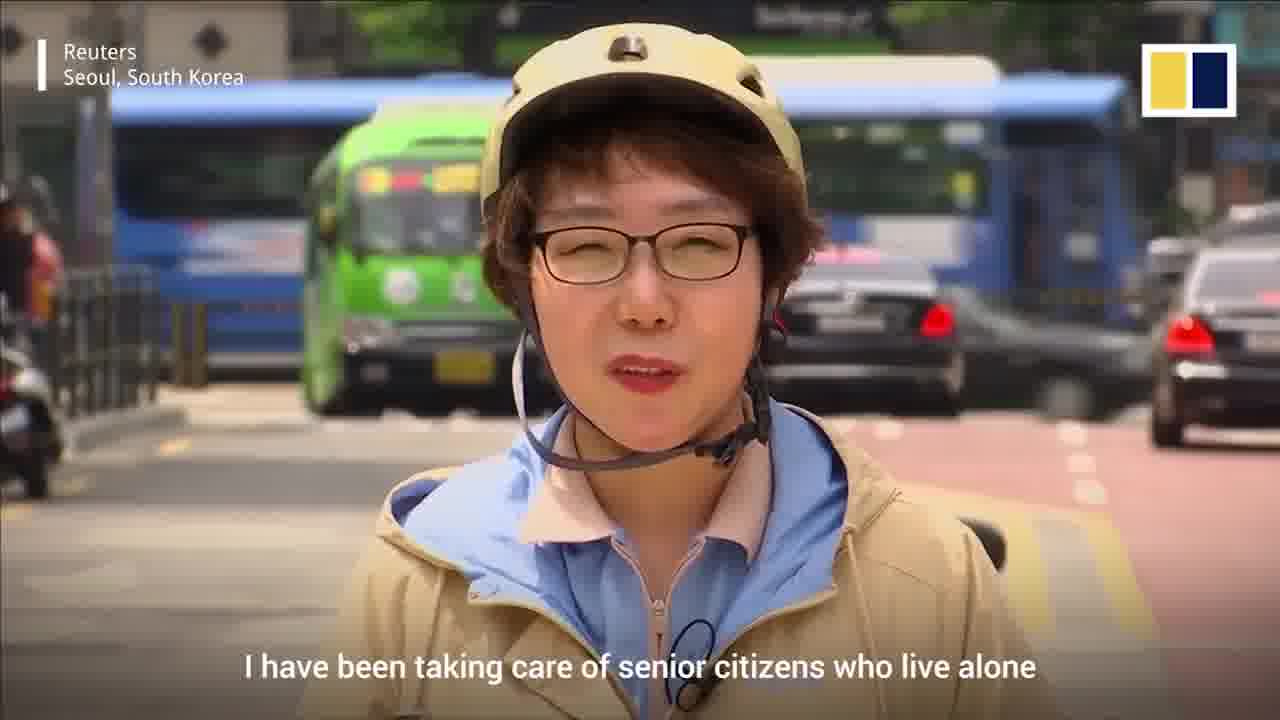Yakurut: (293, 17, 1071, 720)
